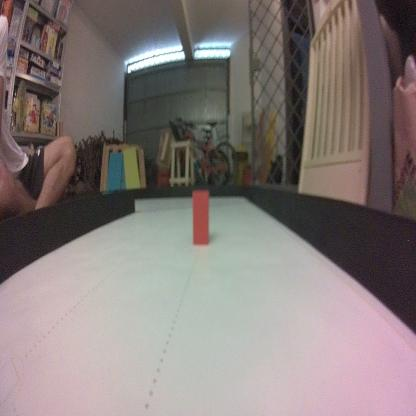red: (190, 190, 210, 248)
